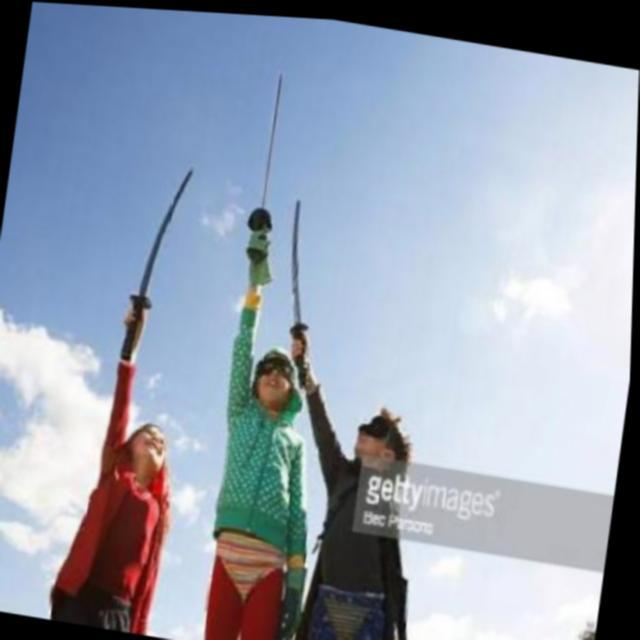weapon: (188, 199, 358, 640), (250, 323, 457, 640), (39, 281, 205, 636), (120, 156, 195, 366)
